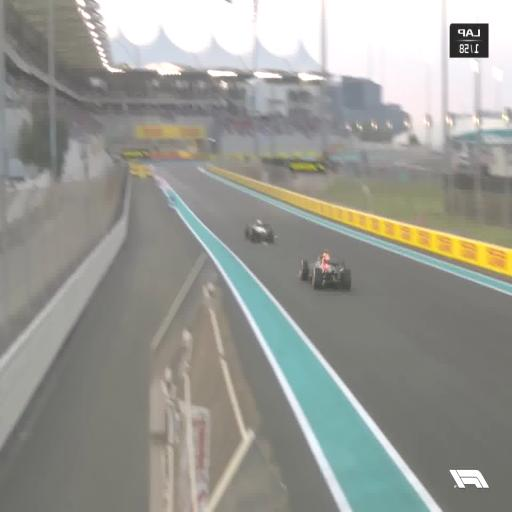f1_car: (299, 251, 351, 290), (245, 220, 275, 242)
